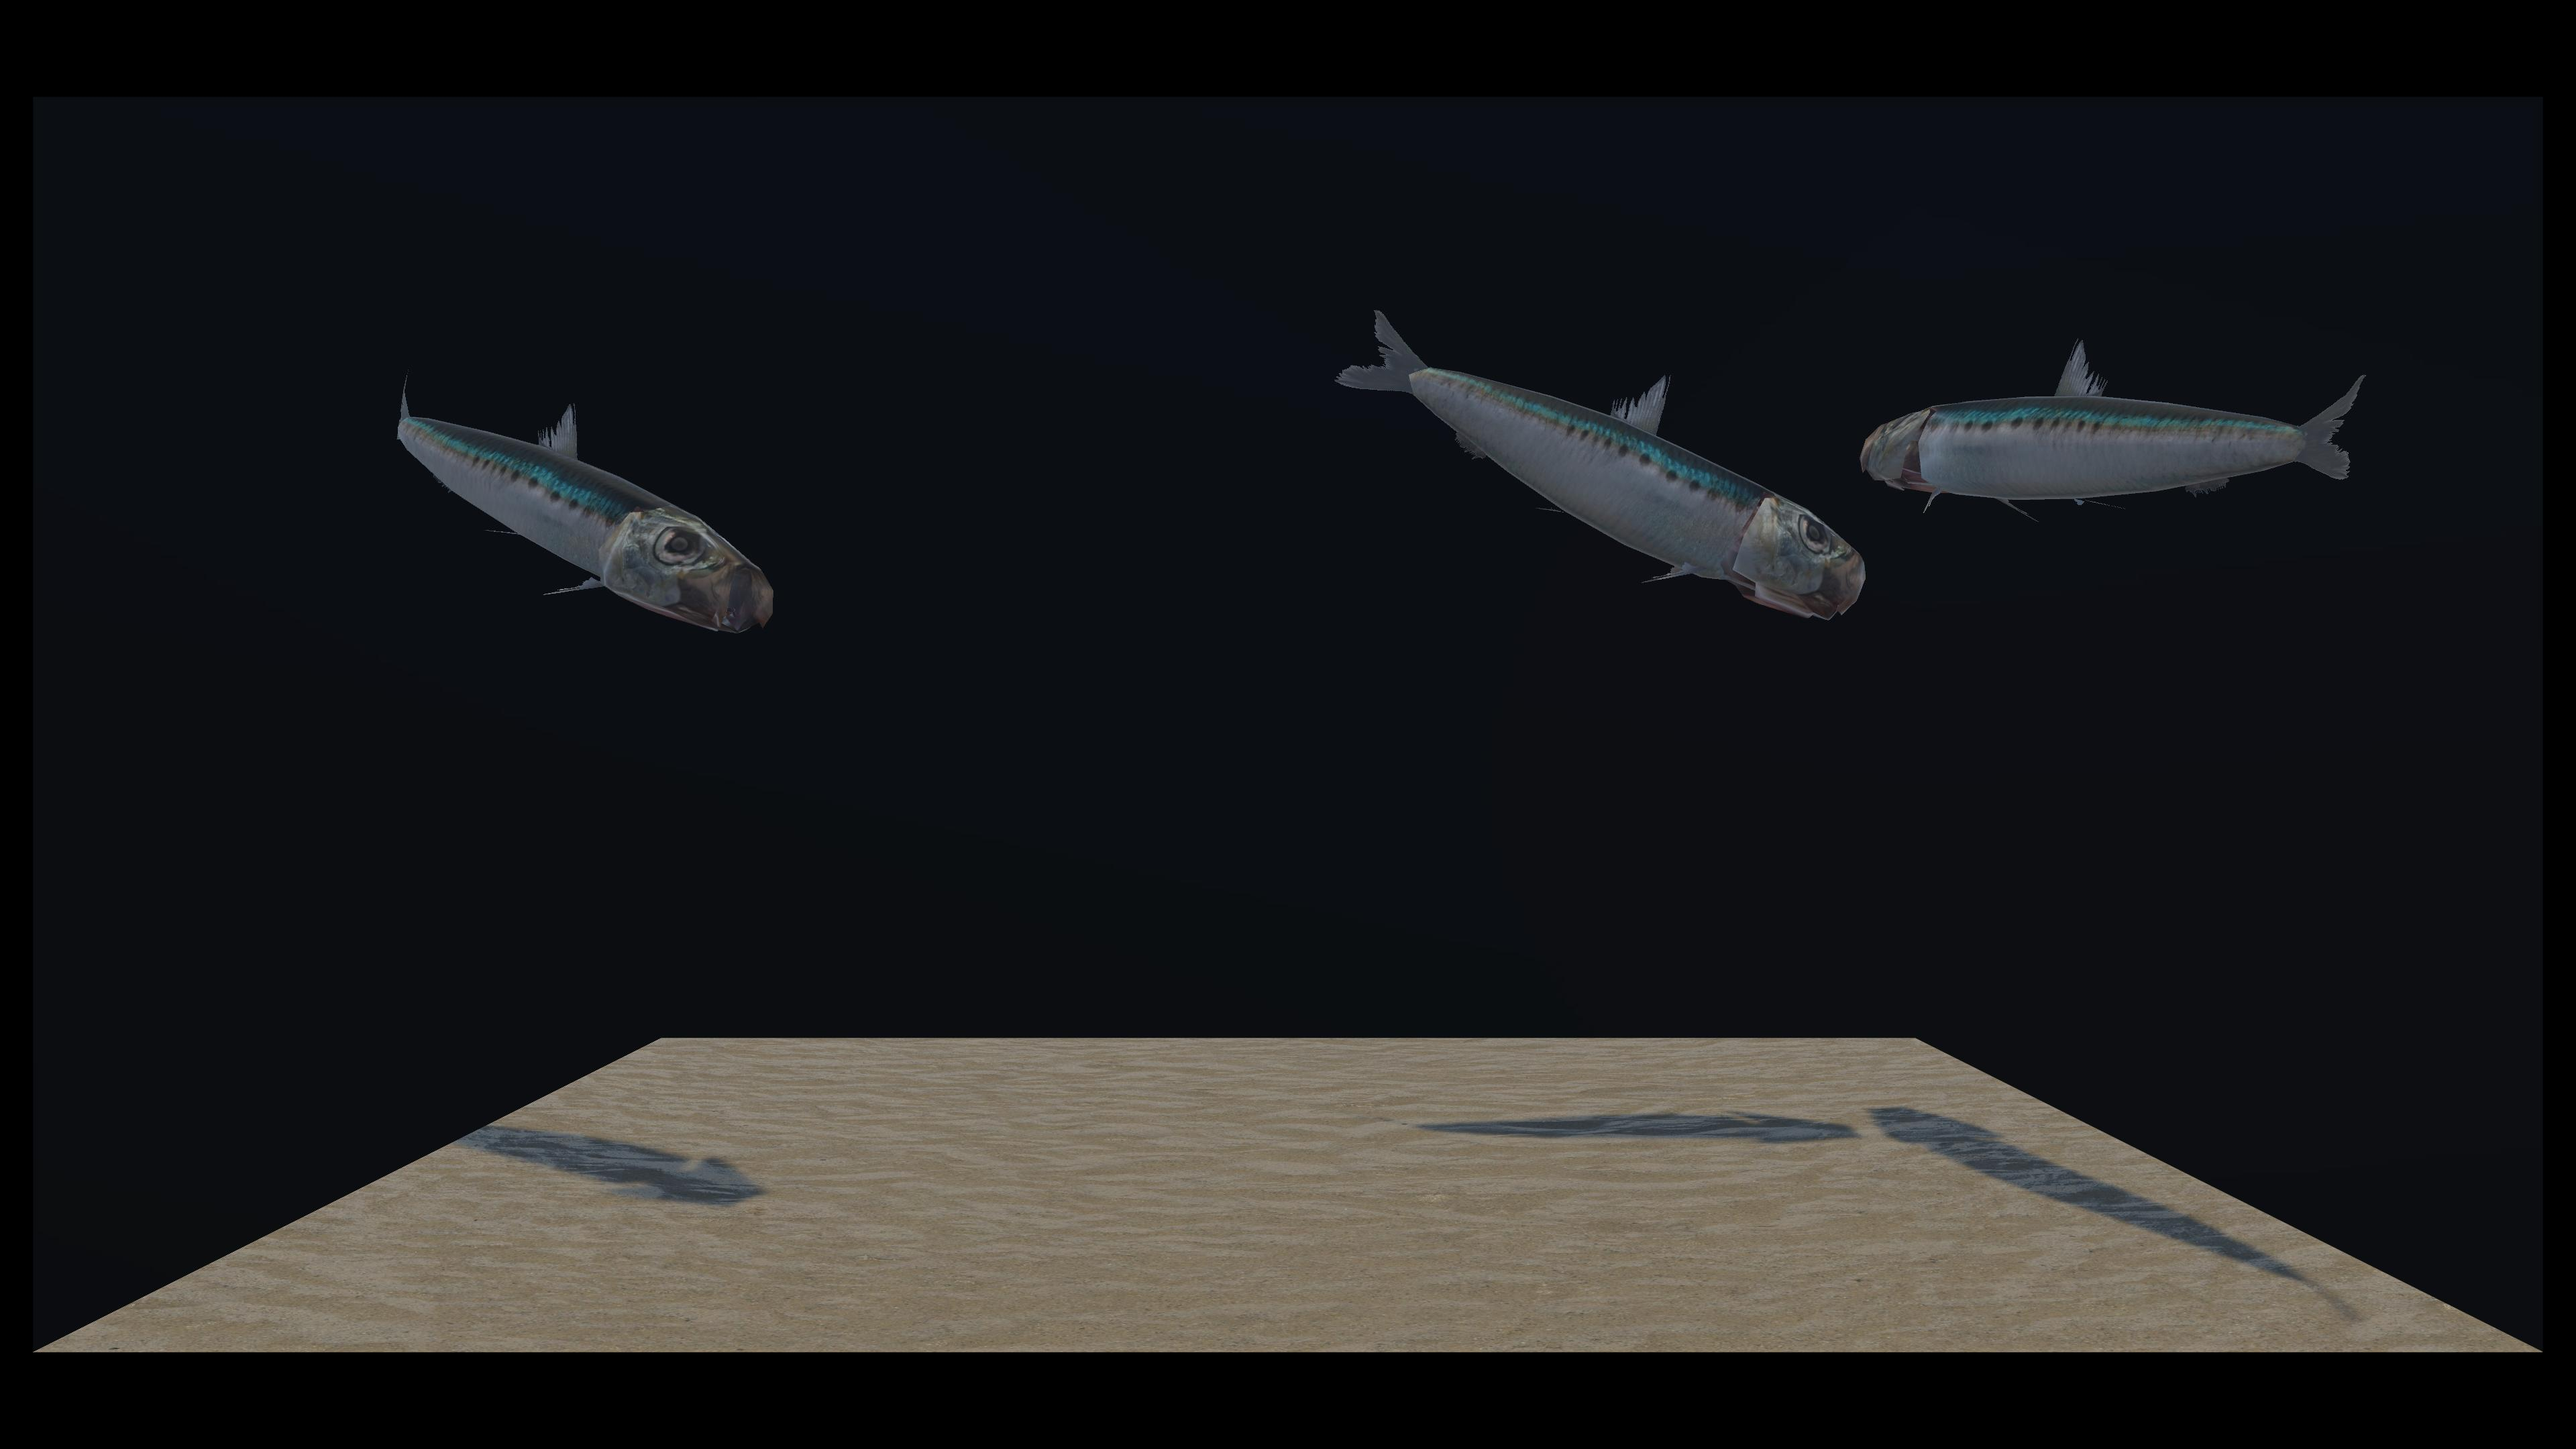Sardine_Front: (801, 345, 2374, 561), (727, 311, 1854, 587), (396, 372, 970, 612)
